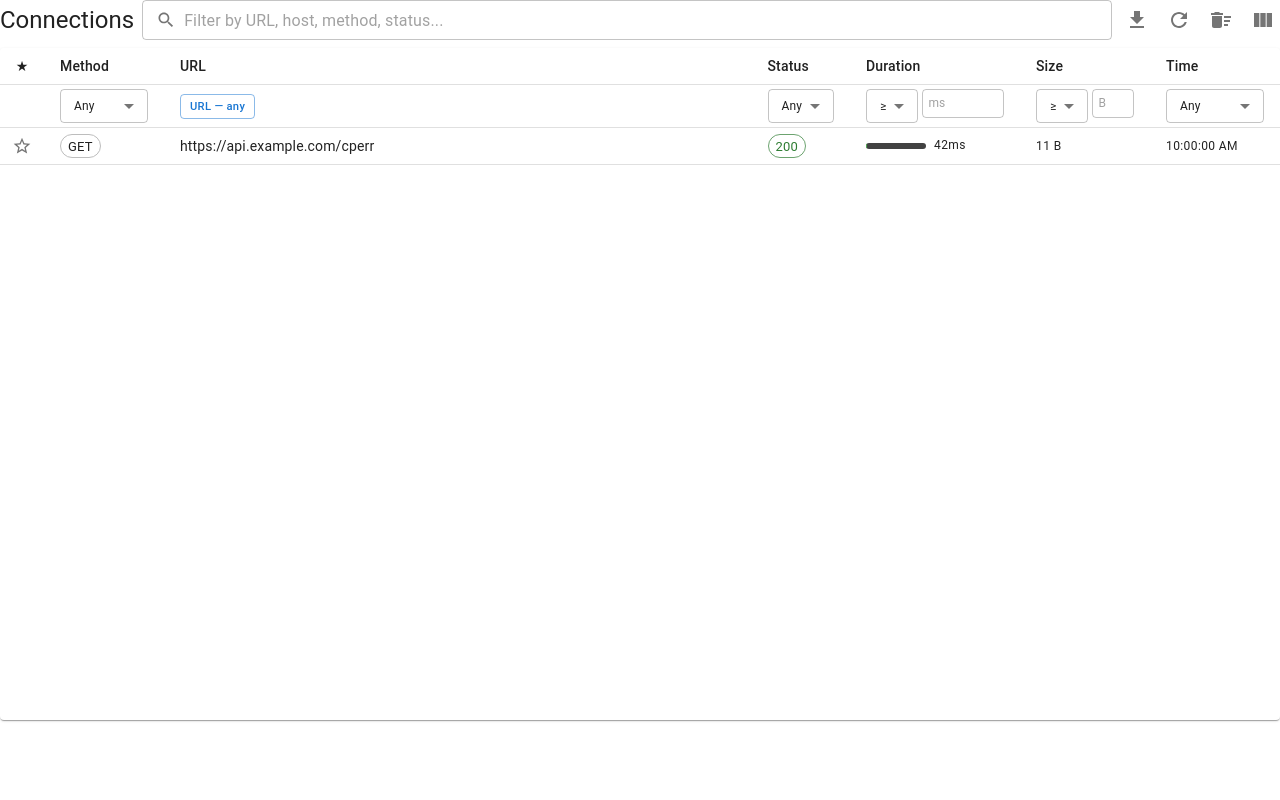
Test: ConnectionsPage — body format / clipboard error toasts › shows an error toast when clipboard.writeText rejects
The width and height of the screenshot is (1280, 800).
Click the text "https://api.example.com/cperr" at (458,147), box 164,128 -> 752,165
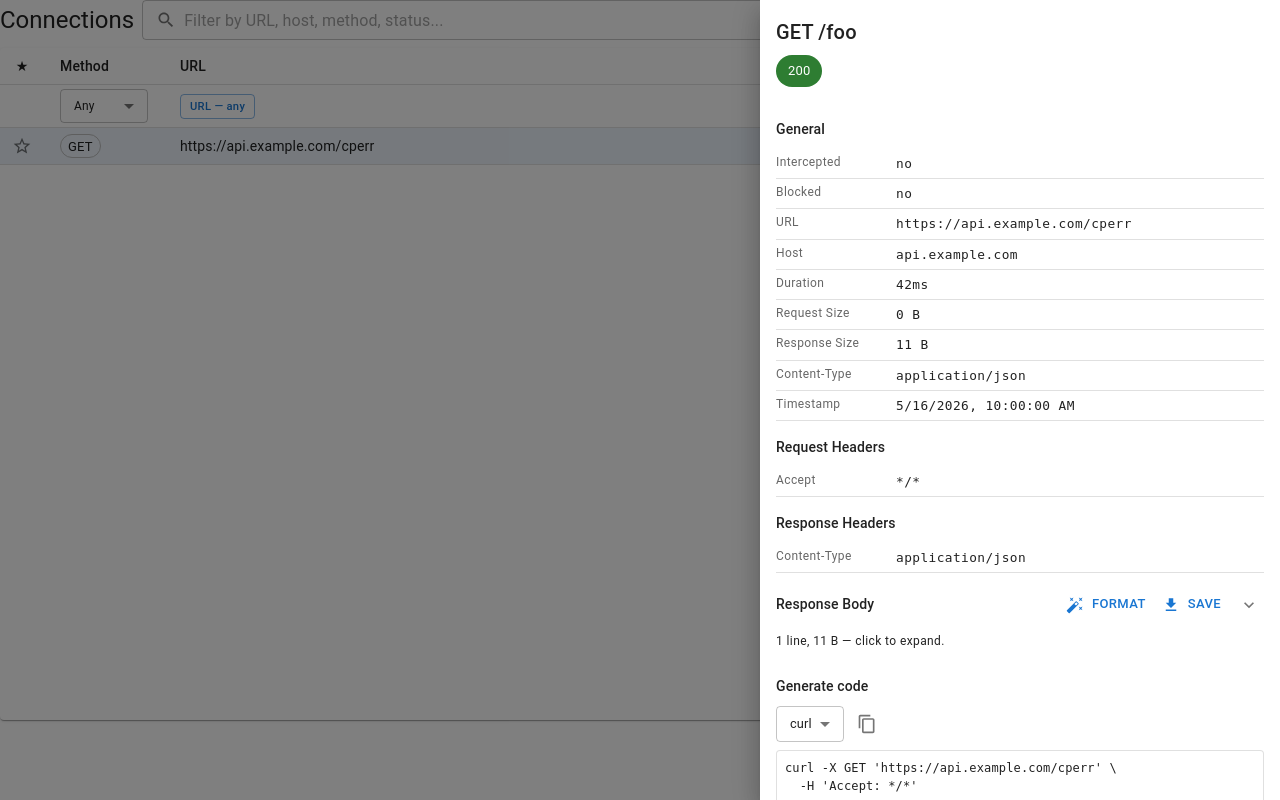
Click the button with test id "codegen-copy" at (867,724), box 852,709 -> 882,739
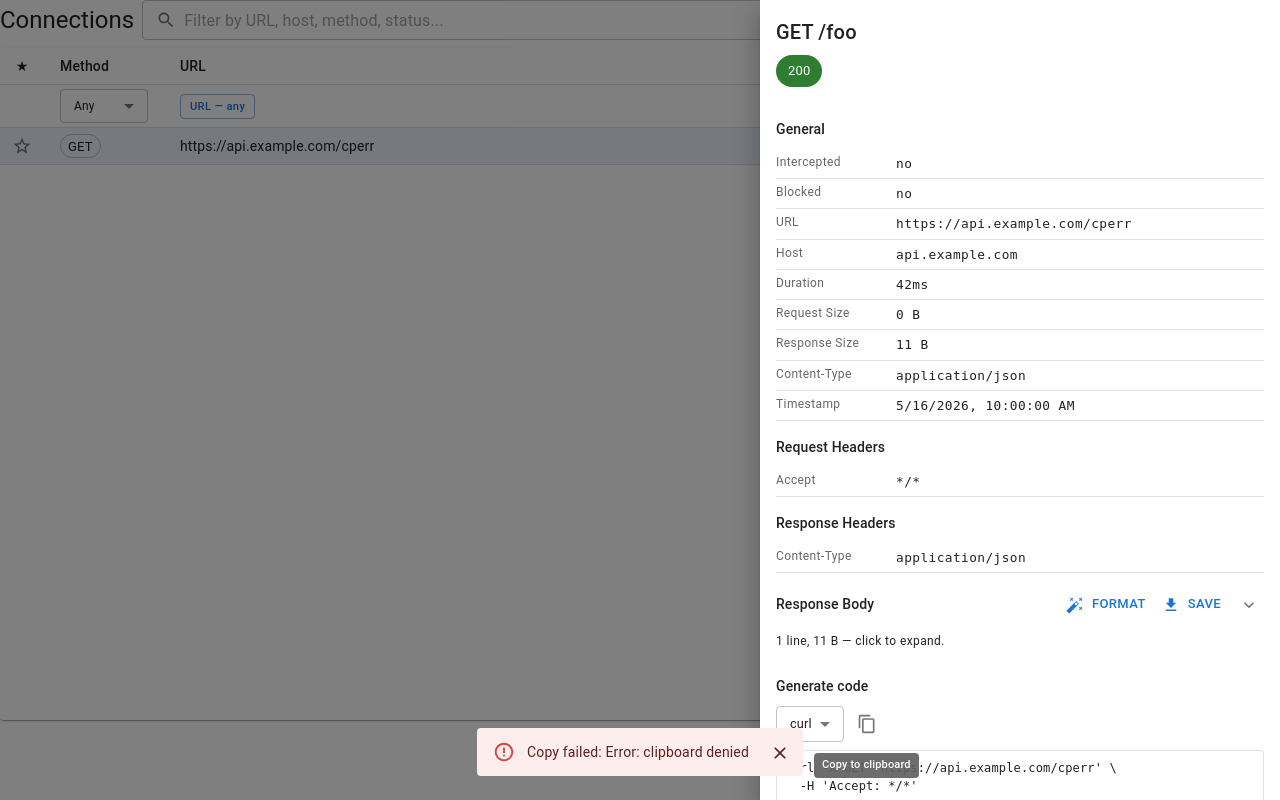
Result: the text "Copy failed: Error: clipboard denied" is shown at 527,744 -> 749,760
